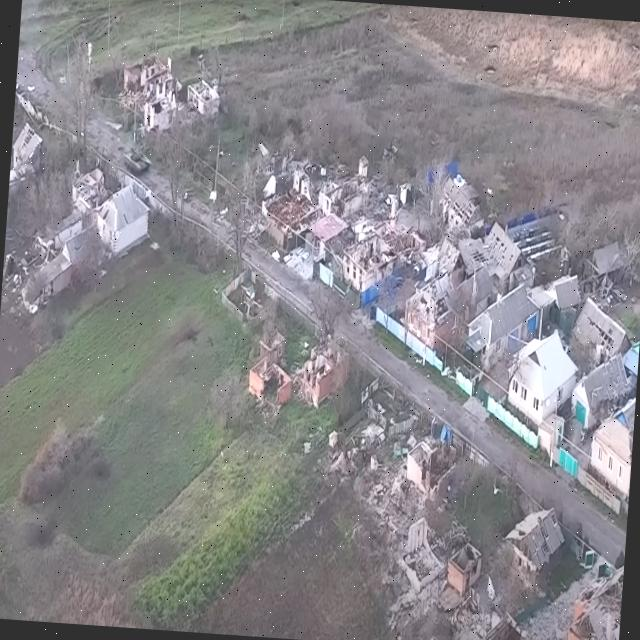MBT: (122, 145, 156, 181)
